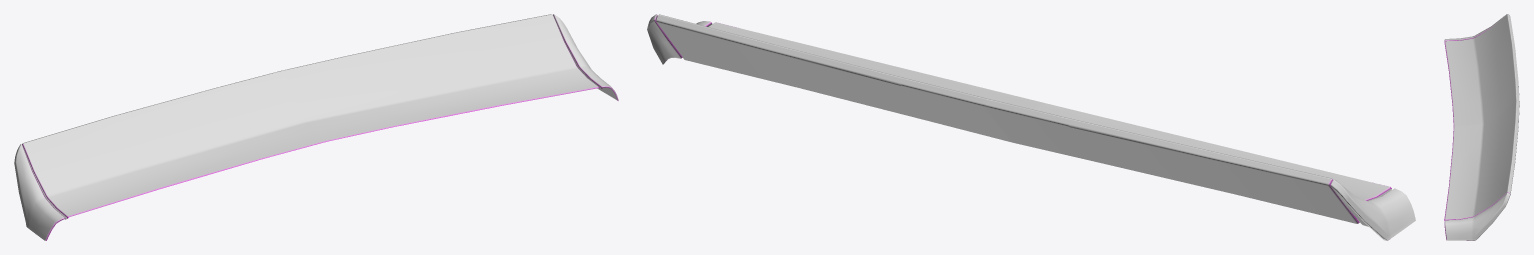
File: Car_Buick_GrandNational_1987_Spoiler_SetG.fbx
3 views of the same model, side by side, from view 1: azimuth 30°, elevation 25°; view 2: azimuth 150°, elevation 25°; view 3: azimuth 270°, elevation 25° (orthographic). The views are drawn at different scales.
Parts seen in each view (by area): view 1: Spoiler 6; view 2: Spoiler 6; view 3: Spoiler 6.
Part boxes in pixels (x1,y1,x2,y2): Spoiler 6: (14,14,618,240); Spoiler 6: (647,14,1415,240); Spoiler 6: (1444,14,1519,240).
Size of the model in its own units: 1.65 by 0.1763 by 0.2724.
